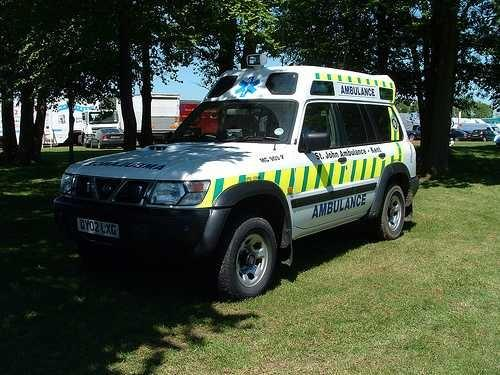car: (51, 53, 419, 299)
